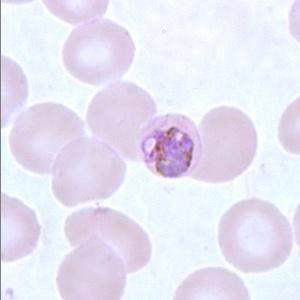Infected: (136, 111, 203, 179)
Uninfected: (64, 205, 151, 273), (216, 198, 289, 272), (9, 102, 83, 173), (86, 82, 155, 157), (191, 106, 258, 182), (51, 136, 124, 205), (63, 19, 136, 82), (56, 242, 126, 298)
